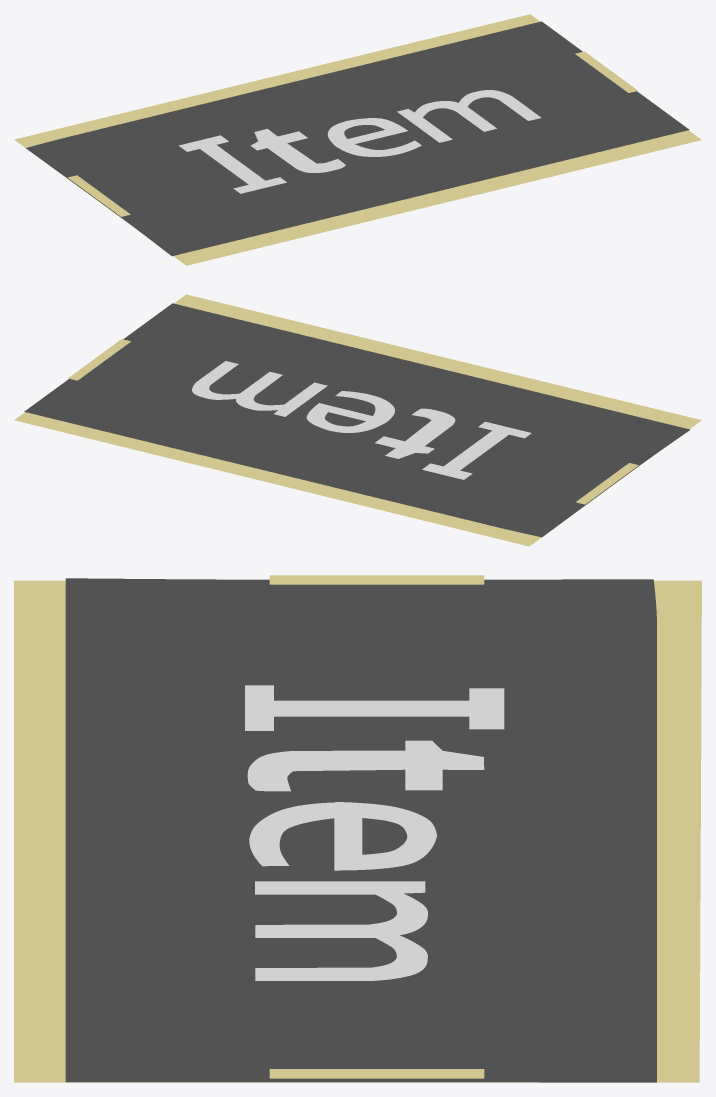
File: ITTTEEEEEEM.fbx
The picture shows the model from 3 angles, top to bottom: view 1: azimuth 30°, elevation 25°; view 2: azimuth 150°, elevation 25°; view 3: azimuth 270°, elevation 25°; orthographic projection. The views are drawn at different scales.
Parts seen in each view (by area): view 1: Curve.001, Curve, Curve.004, Curve.009, Curve.008, Curve.007, Curve.012, Curve.002, Curve.003, Curve.013, Curve.015, Curve.016; view 2: Curve.001, Curve, Curve.004, Curve.009, Curve.008, Curve.007, Curve.012, Curve.002, Curve.003, Curve.013, Curve.015, Curve.016; view 3: Curve.001, Curve, Curve.004, Curve.009, Curve.008, Curve.007, Curve.012, Curve.002, Curve.003, Curve.013, Curve.015, Curve.016 (+4 smaller).
Boxes of the visible parts, x1=… form: Curve.001: x1=26, y1=21, x2=689, y2=256; Curve: x1=14, y1=14, x2=701, y2=265; Curve.004: x1=250, y1=129, x2=345, y2=172; Curve.009: x1=199, y1=138, x2=272, y2=189; Curve.008: x1=333, y1=118, x2=407, y2=147; Curve.007: x1=339, y1=140, x2=421, y2=156; Curve.012: x1=397, y1=109, x2=452, y2=142; Curve.002: x1=67, y1=175, x2=130, y2=216; Curve.003: x1=575, y1=51, x2=637, y2=92; Curve.013: x1=449, y1=104, x2=496, y2=131; Curve.015: x1=459, y1=90, x2=512, y2=106; Curve.016: x1=499, y1=97, x2=541, y2=120; Curve.001: x1=24, y1=303, x2=690, y2=537; Curve: x1=14, y1=294, x2=701, y2=546; Curve.004: x1=375, y1=408, x2=455, y2=458; Curve.009: x1=435, y1=425, x2=515, y2=476; Curve.008: x1=306, y1=403, x2=387, y2=429; Curve.007: x1=335, y1=391, x2=394, y2=420; Curve.012: x1=274, y1=382, x2=327, y2=416; Curve.002: x1=576, y1=463, x2=638, y2=504; Curve.003: x1=68, y1=339, x2=130, y2=380; Curve.013: x1=236, y1=372, x2=282, y2=399; Curve.015: x1=192, y1=382, x2=239, y2=399; Curve.016: x1=197, y1=361, x2=238, y2=385; Curve.001: x1=65, y1=578, x2=656, y2=1082; Curve: x1=14, y1=580, x2=701, y2=1082; Curve.004: x1=247, y1=740, x2=484, y2=791; Curve.009: x1=245, y1=700, x2=503, y2=716; Curve.008: x1=334, y1=802, x2=436, y2=870; Curve.007: x1=249, y1=802, x2=335, y2=866; Curve.012: x1=255, y1=881, x2=425, y2=894; Curve.002: x1=269, y1=575, x2=484, y2=584; Curve.003: x1=269, y1=1069, x2=484, y2=1078; Curve.013: x1=255, y1=924, x2=391, y2=937; Curve.015: x1=369, y1=932, x2=427, y2=980; Curve.016: x1=255, y1=967, x2=371, y2=980.
Size of the model in its own units: 12.16 by 0.05 by 7.01.
